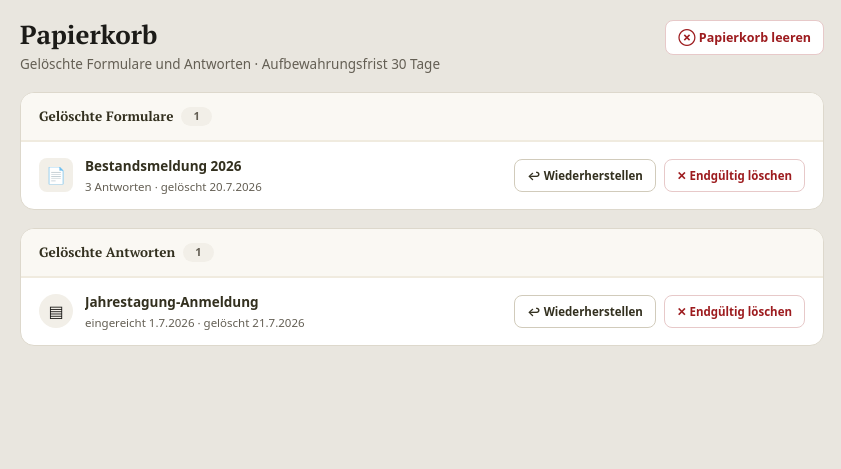
Test: TrashView › mit canPurge › says so when items failed to purge during leeren
Expected: the text "Bestandsmeldung 2026" is shown, [85, 157, 242, 175]
Click the button "⊗ Papierkorb leeren". click: click(745, 38)
box: [665, 20, 824, 55]
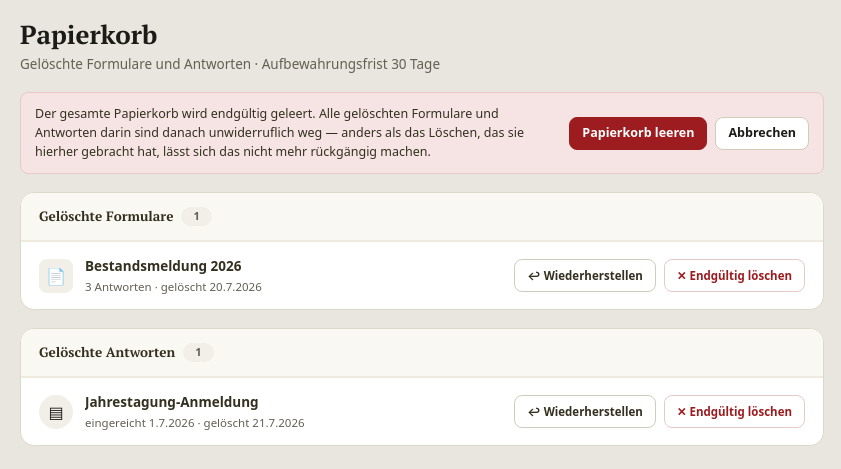
Click the button "Papierkorb leeren". click: click(638, 133)
box: [569, 117, 707, 150]
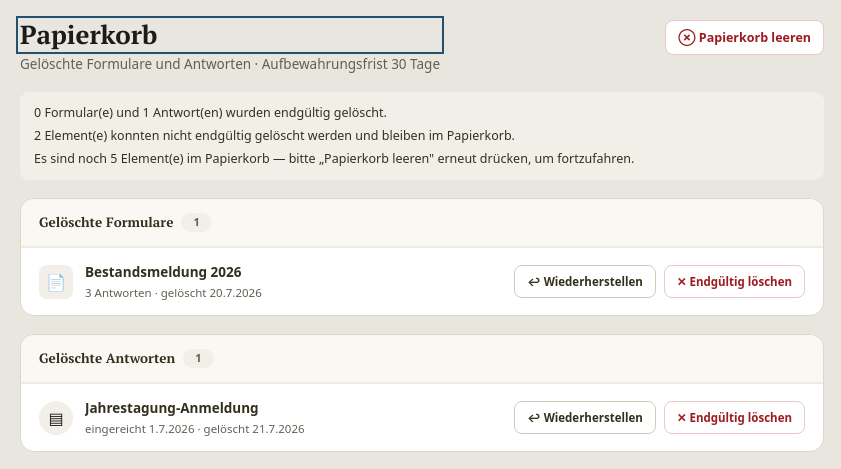
Now the message with test id "trash-empty-result" is shown, box [20, 92, 824, 180]
Now the text with test id "trash-empty-failed" shows "2", box [34, 127, 41, 144]
Now the text with test id "trash-empty-remaining" shows "erneut drücken", box [34, 150, 634, 167]
